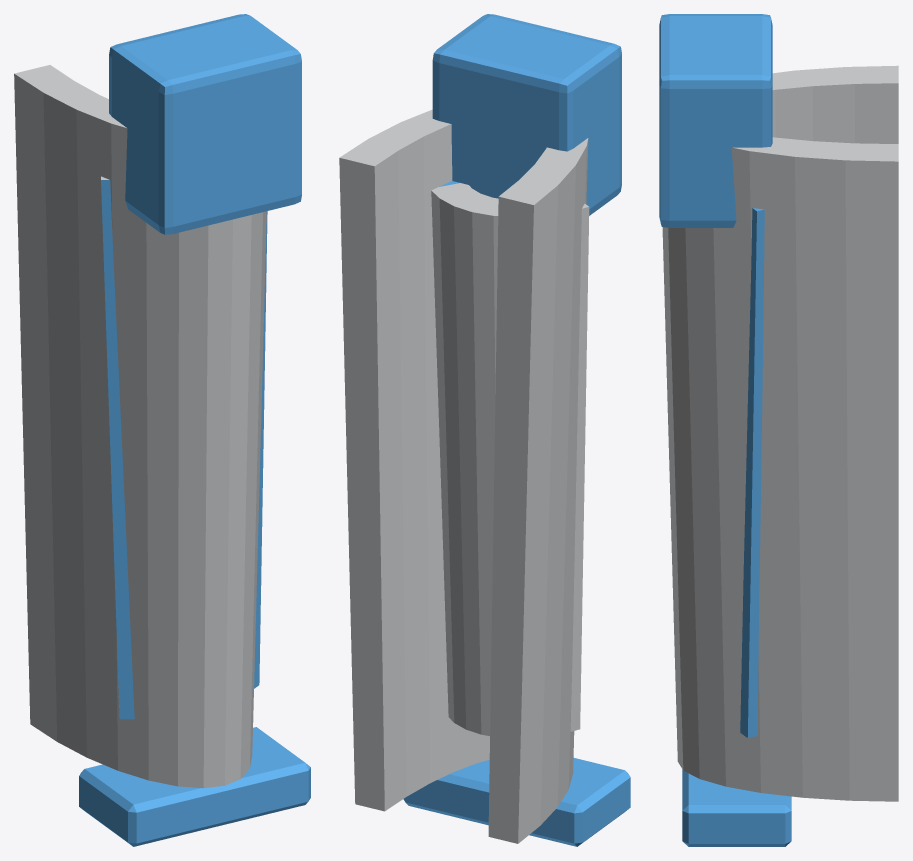
Rendered from right_shin__knee_trim.glb.
The picture shows the model from 3 angles, left to right: view 1: azimuth 30°, elevation 25°; view 2: azimuth 150°, elevation 25°; view 3: azimuth 270°, elevation 25°; orthographic projection.
Visible parts, largest first — view 1: armor_right_shin__knee_trim_v001; view 2: armor_right_shin__knee_trim_v001; view 3: armor_right_shin__knee_trim_v001.
Boxes of the visible parts, x1,y1,x2,y2 form: armor_right_shin__knee_trim_v001: [14, 14, 310, 846]; armor_right_shin__knee_trim_v001: [339, 14, 630, 846]; armor_right_shin__knee_trim_v001: [659, 14, 898, 846].
Bounding box in the file's own units: 0.1078 × 0.3987 × 0.114.
